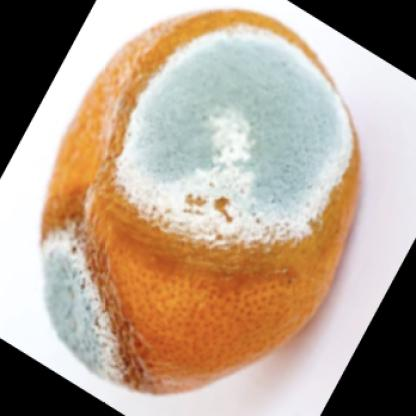rotten: (39, 8, 359, 395)
